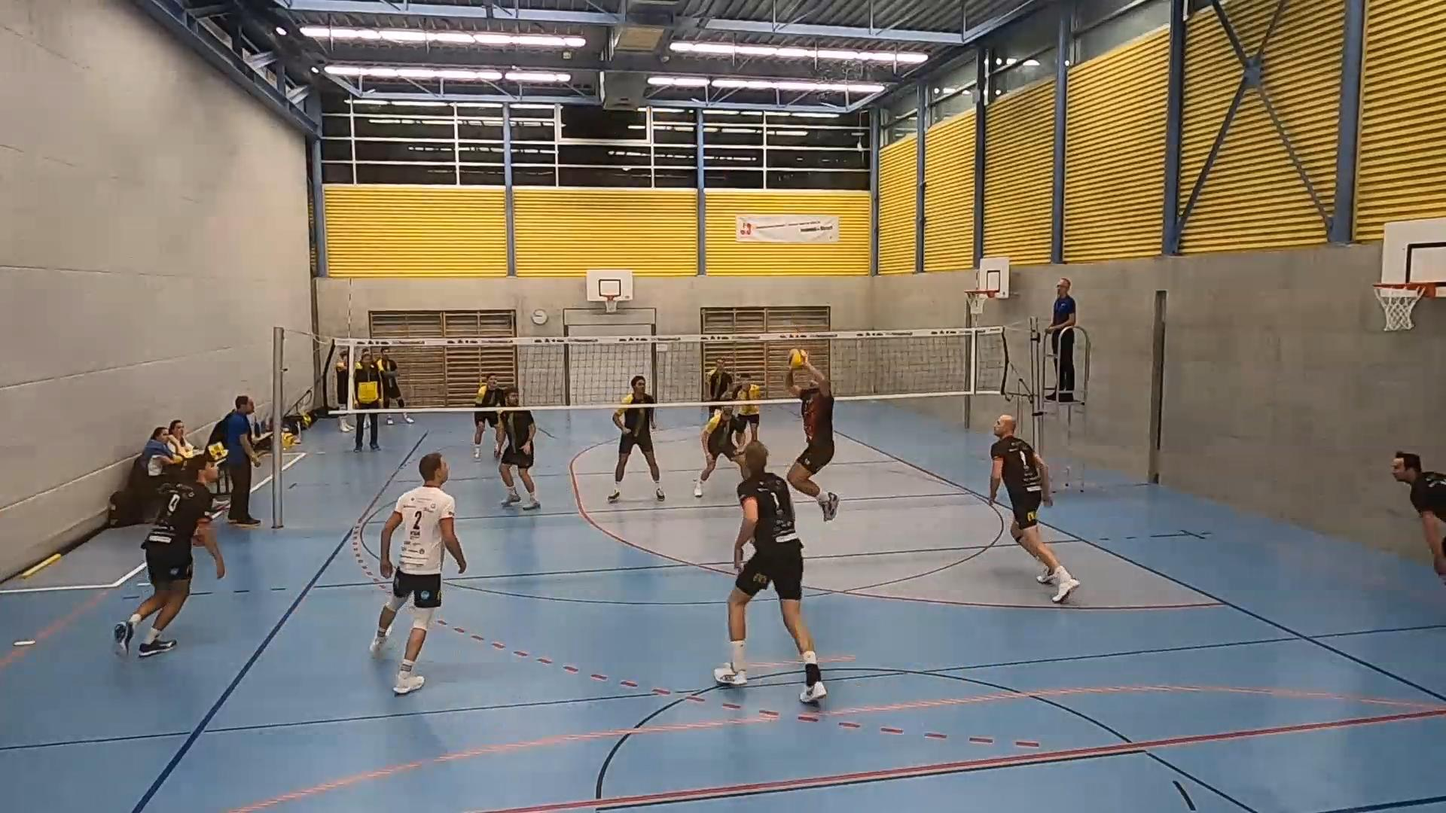alzata: (781, 367, 842, 514)
